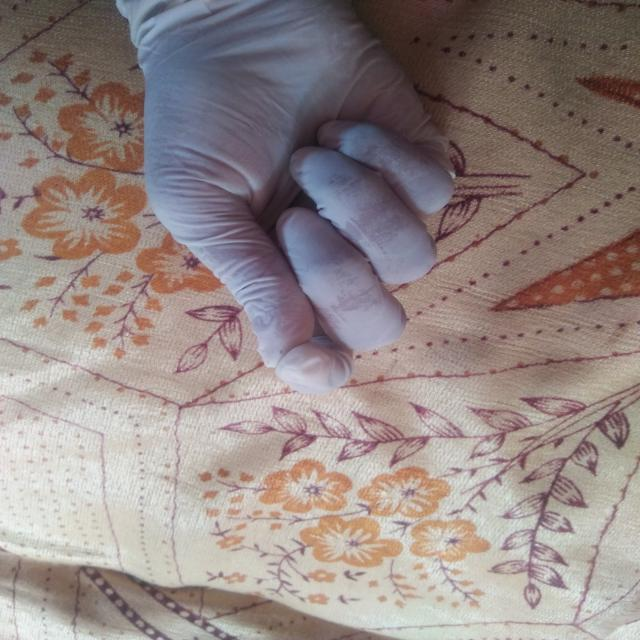gloved_hand: (110, 1, 476, 396)
